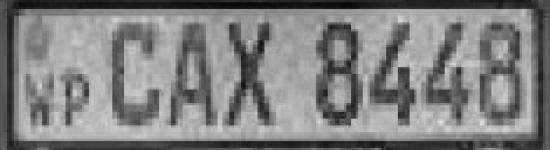4: (366, 16, 422, 132), (422, 17, 475, 133), (476, 17, 526, 128)
8: (313, 17, 367, 130)
A: (167, 18, 222, 132)
C: (108, 19, 164, 131)
P: (61, 69, 95, 130)
W: (23, 69, 57, 132)
X: (223, 18, 280, 130)
